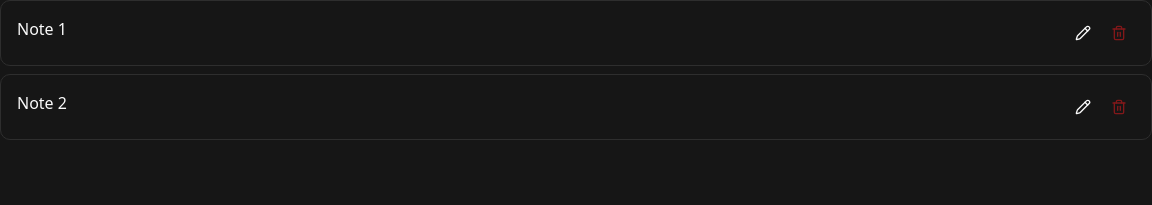
Test case: NotesList › expand/collapse functionality › handles multiple notes expanding independently
Click the button "Note 1".
click(42, 29)  # box top-left (17, 17), bottom-right (1055, 41)
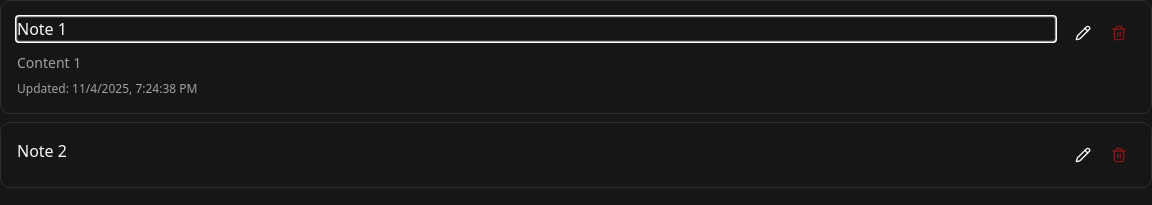
Expected: the text "Content 2" is not shown
Expected: the text "Content 1" is shown, top-left (17, 53), bottom-right (81, 72)
Click the button "Note 2".
click(42, 151)  # box top-left (17, 139), bottom-right (1055, 163)
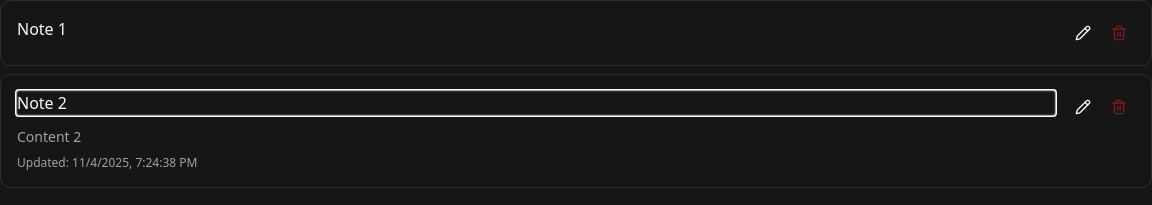
Expected: the text "Content 1" is gone
Expected: the text "Content 2" is shown, top-left (17, 127), bottom-right (81, 146)
